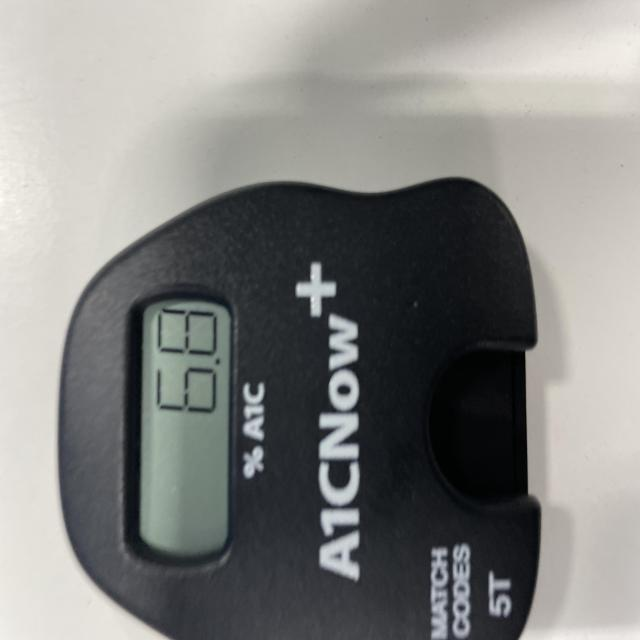hba1c: (55, 178, 543, 640)
